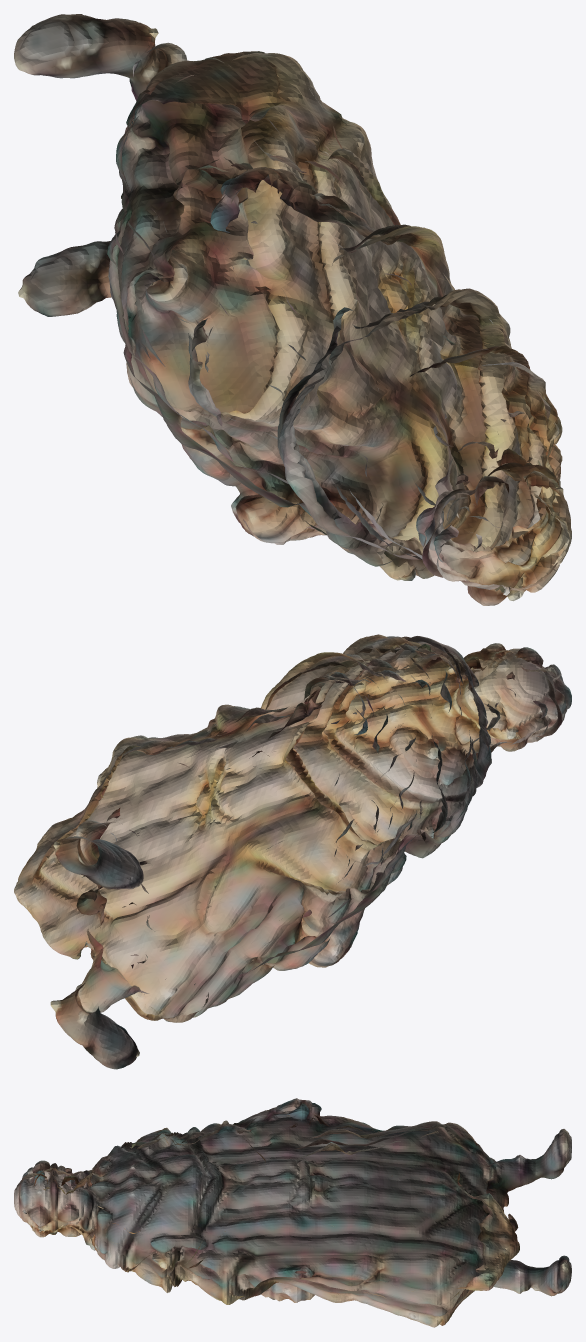
File: triposr.glb
The picture shows the model from 3 angles, top to bottom: view 1: azimuth 30°, elevation 25°; view 2: azimuth 150°, elevation 25°; view 3: azimuth 270°, elevation 25°; orthographic projection. The views are drawn at different scales.
Parts seen in each view (by area): view 1: geometry_0; view 2: geometry_0; view 3: geometry_0.
Part boxes in pixels (x1,y1,x2,y2): geometry_0: [14, 14, 571, 605]; geometry_0: [14, 634, 571, 1069]; geometry_0: [14, 1098, 571, 1327].
Size of the model in its own units: 0.33 by 0.3806 by 0.9766.
